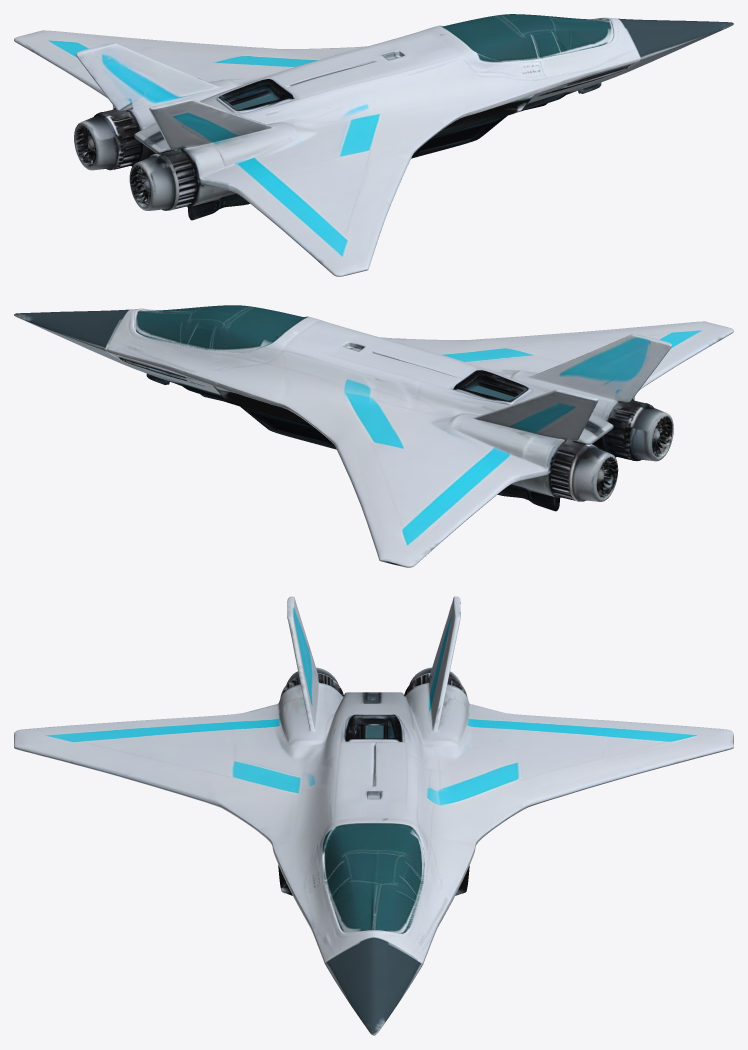
Rendered from interceptor.glb.
The picture shows the model from 3 angles, top to bottom: view 1: azimuth 30°, elevation 25°; view 2: azimuth 150°, elevation 25°; view 3: azimuth 270°, elevation 25°; orthographic projection. The views are drawn at different scales.
Parts seen in each view (by area): view 1: node_0; view 2: node_0; view 3: node_0.
Boxes of the visible parts, <box> form: node_0: <box>14,14,733,276</box>; node_0: <box>14,305,733,567</box>; node_0: <box>14,596,733,1035</box>.
Size of the model in its own units: 0.9944 by 0.2021 by 0.9029.
Materials: 1 (1 with a texture image).
